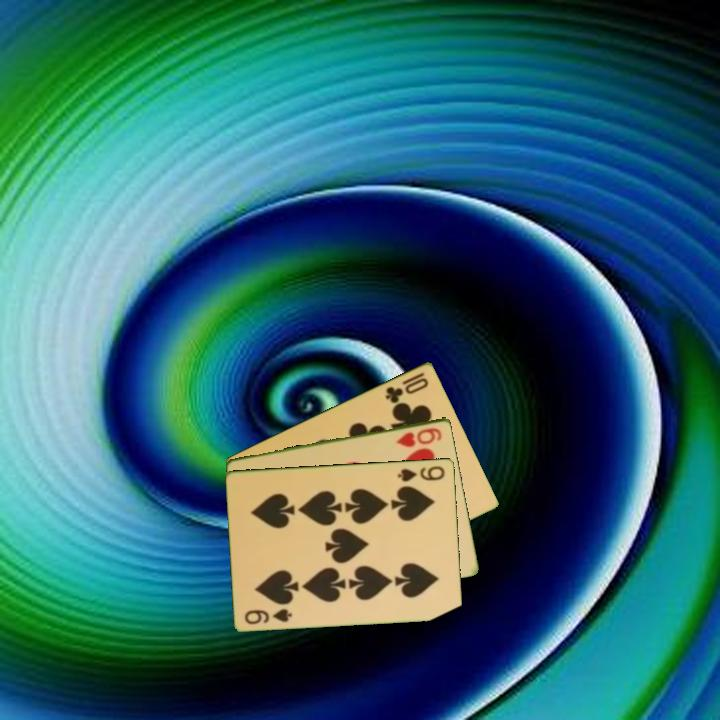10c: (382, 368, 432, 406)
6h: (393, 424, 445, 450)
9s: (394, 462, 448, 484), (242, 605, 295, 627)
